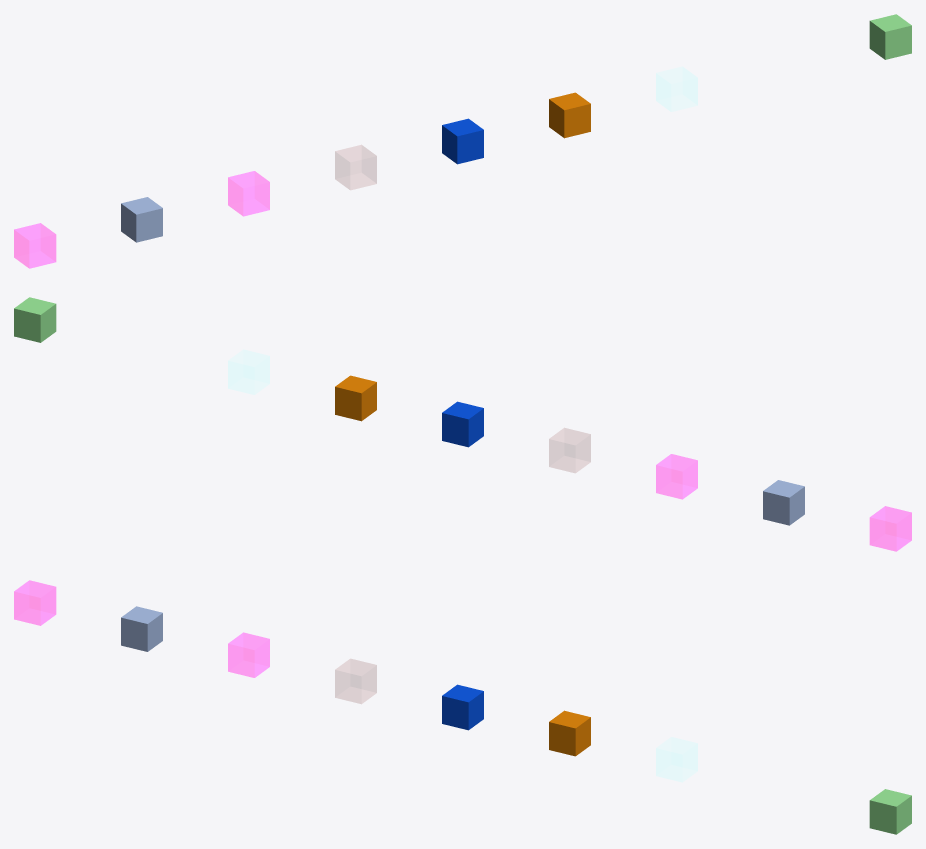
The model's file is common_materials_library.glb.
3 views of the same model, one above another, from view 1: azimuth 30°, elevation 25°; view 2: azimuth 150°, elevation 25°; view 3: azimuth 330°, elevation 25° (orthographic).
Visible parts, largest first — view 1: Material_Crystal, Material_Portal, Material_Env_blue, Material_Rock, Material_Env_orange, Material_Portal_glow, Material_Sensor_material, Material_Glowy; view 2: Material_Crystal, Material_Portal, Material_Env_blue, Material_Rock, Material_Env_orange, Material_Portal_glow, Material_Sensor_material, Material_Glowy; view 3: Material_Crystal, Material_Portal, Material_Env_blue, Material_Rock, Material_Env_orange, Material_Portal_glow, Material_Sensor_material, Material_Glowy.
Boxes of the visible parts, <box> form: Material_Crystal: <box>869,14,911,59</box>; Material_Portal: <box>14,223,56,268</box>; Material_Env_blue: <box>442,118,483,164</box>; Material_Rock: <box>121,197,162,242</box>; Material_Env_orange: <box>549,92,590,138</box>; Material_Portal_glow: <box>228,171,269,216</box>; Material_Sensor_material: <box>335,145,376,189</box>; Material_Glowy: <box>656,67,697,111</box>; Material_Crystal: <box>14,297,56,342</box>; Material_Portal: <box>869,506,911,551</box>; Material_Env_blue: <box>442,401,483,447</box>; Material_Rock: <box>763,480,804,525</box>; Material_Env_orange: <box>335,375,376,421</box>; Material_Portal_glow: <box>656,454,697,499</box>; Material_Sensor_material: <box>549,428,590,472</box>; Material_Glowy: <box>228,350,269,394</box>; Material_Crystal: <box>869,789,911,834</box>; Material_Portal: <box>14,580,56,625</box>; Material_Env_blue: <box>442,684,483,730</box>; Material_Rock: <box>121,606,162,651</box>; Material_Env_orange: <box>549,710,590,756</box>; Material_Portal_glow: <box>228,632,269,677</box>; Material_Sensor_material: <box>335,659,376,703</box>; Material_Glowy: <box>656,737,697,781</box>.
Size of what is drawn, in the model's own units: 3.3 by 0.1 by 0.1.
